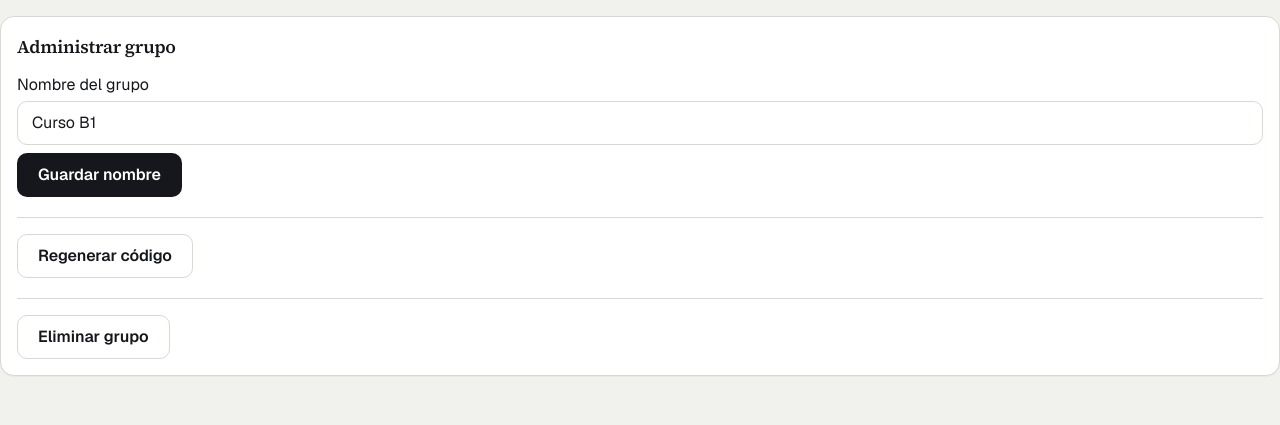
Test: GroupAdminPanel (RF-09) › renombra con validación de 3 a 60 caracteres
This screenshot has width=1280, height=425.
Replace the text in the field labelled "Nombre del grupo" with "ab" at (640, 123), box [17,101,1263,145]
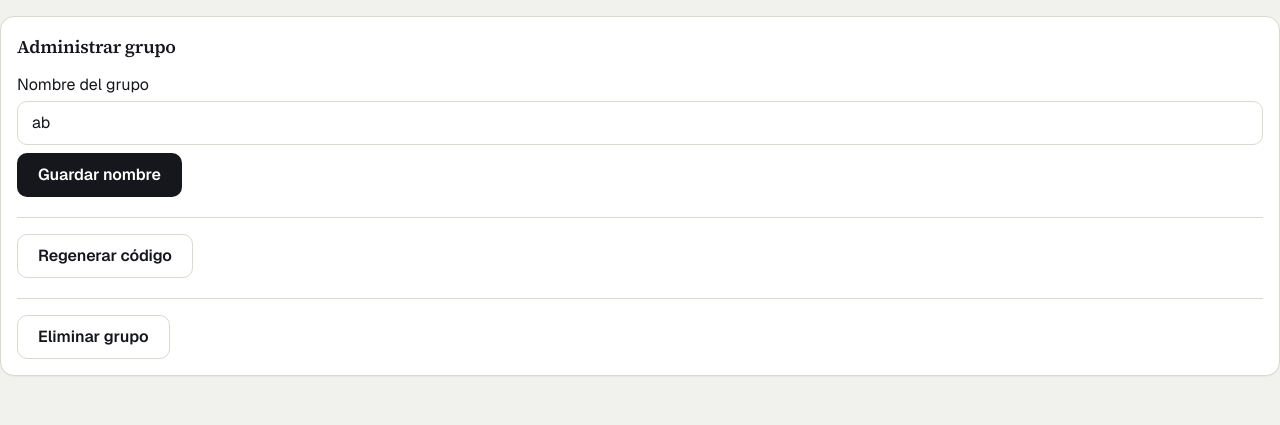
Click the button "Guardar nombre" at (99, 175), box [17,153,182,197]
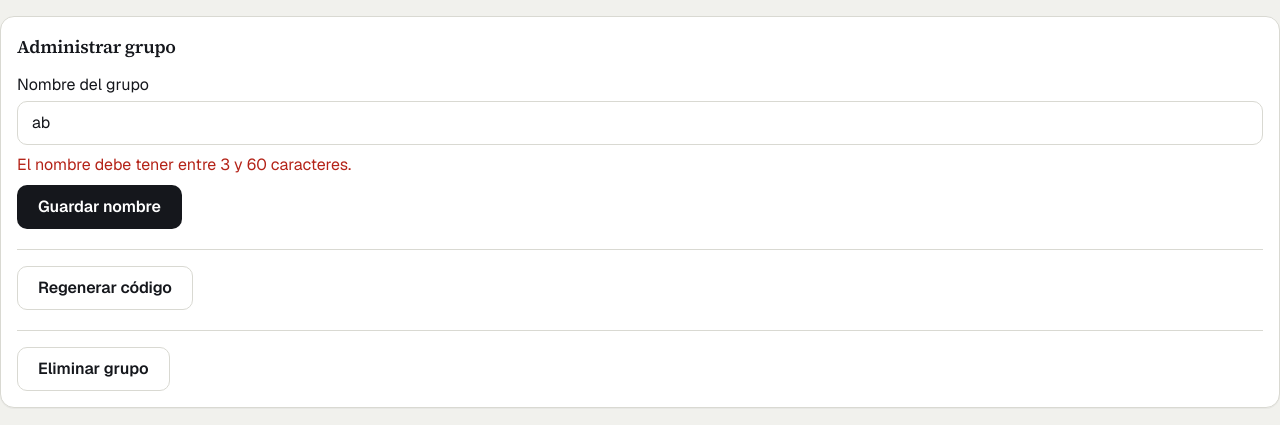
Expected: the message "El nombre debe tener entre 3 y 60 caracteres." is shown, [17,154,351,175]
Replace the text in the field labelled "Nombre del grupo" with "Alemán B1 – 2027" at (640, 123), box [17,101,1263,145]
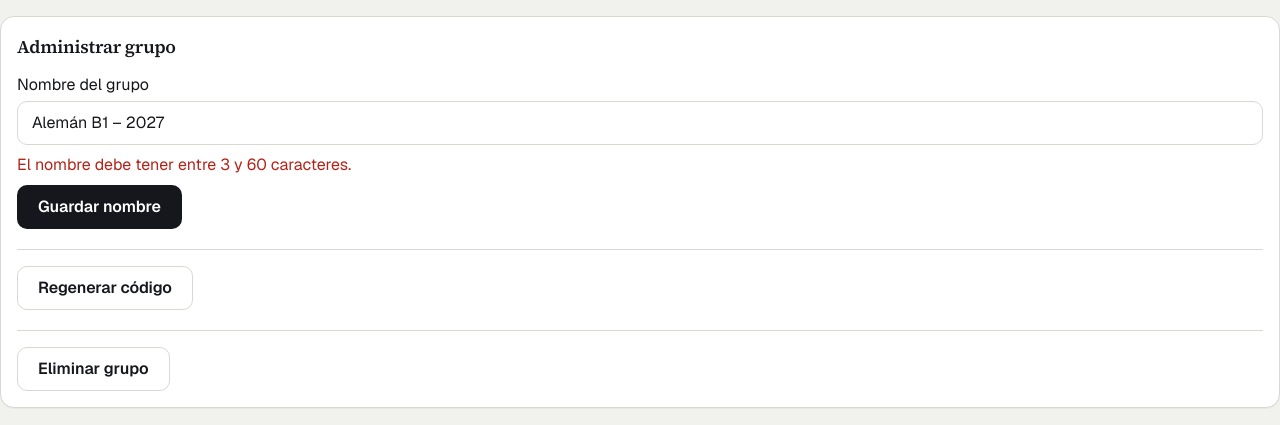
Click the button "Guardar nombre" at (99, 207), box [17,185,182,229]
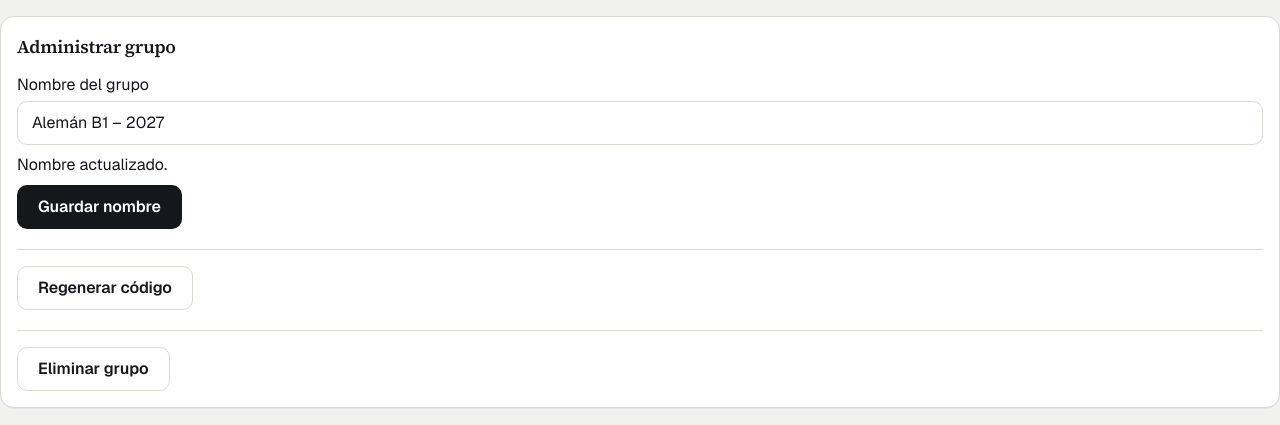
Expected: the message shows "Nombre actualizado", [17,154,167,175]
